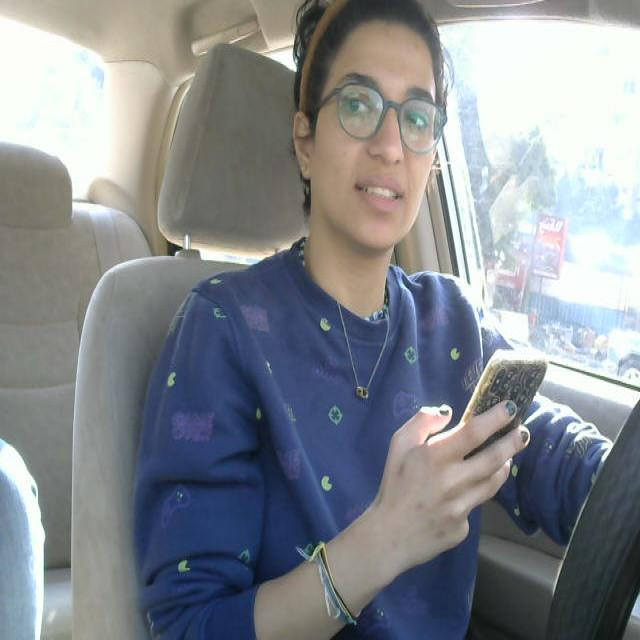mobile use: (451, 344, 549, 497)
